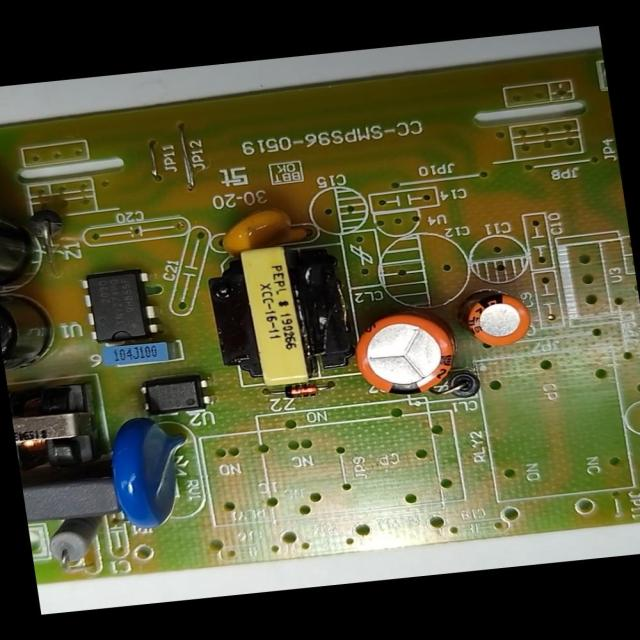Cap1: (353, 311, 462, 403)
Cap2: (453, 286, 538, 353)
Cap3: (0, 280, 66, 380)
Cap4: (0, 182, 54, 282)
MOSFET: (76, 265, 162, 346)
Mov: (101, 410, 201, 535)
Resistor: (41, 511, 116, 572)
Transformer: (202, 235, 362, 401), (7, 376, 99, 480)
